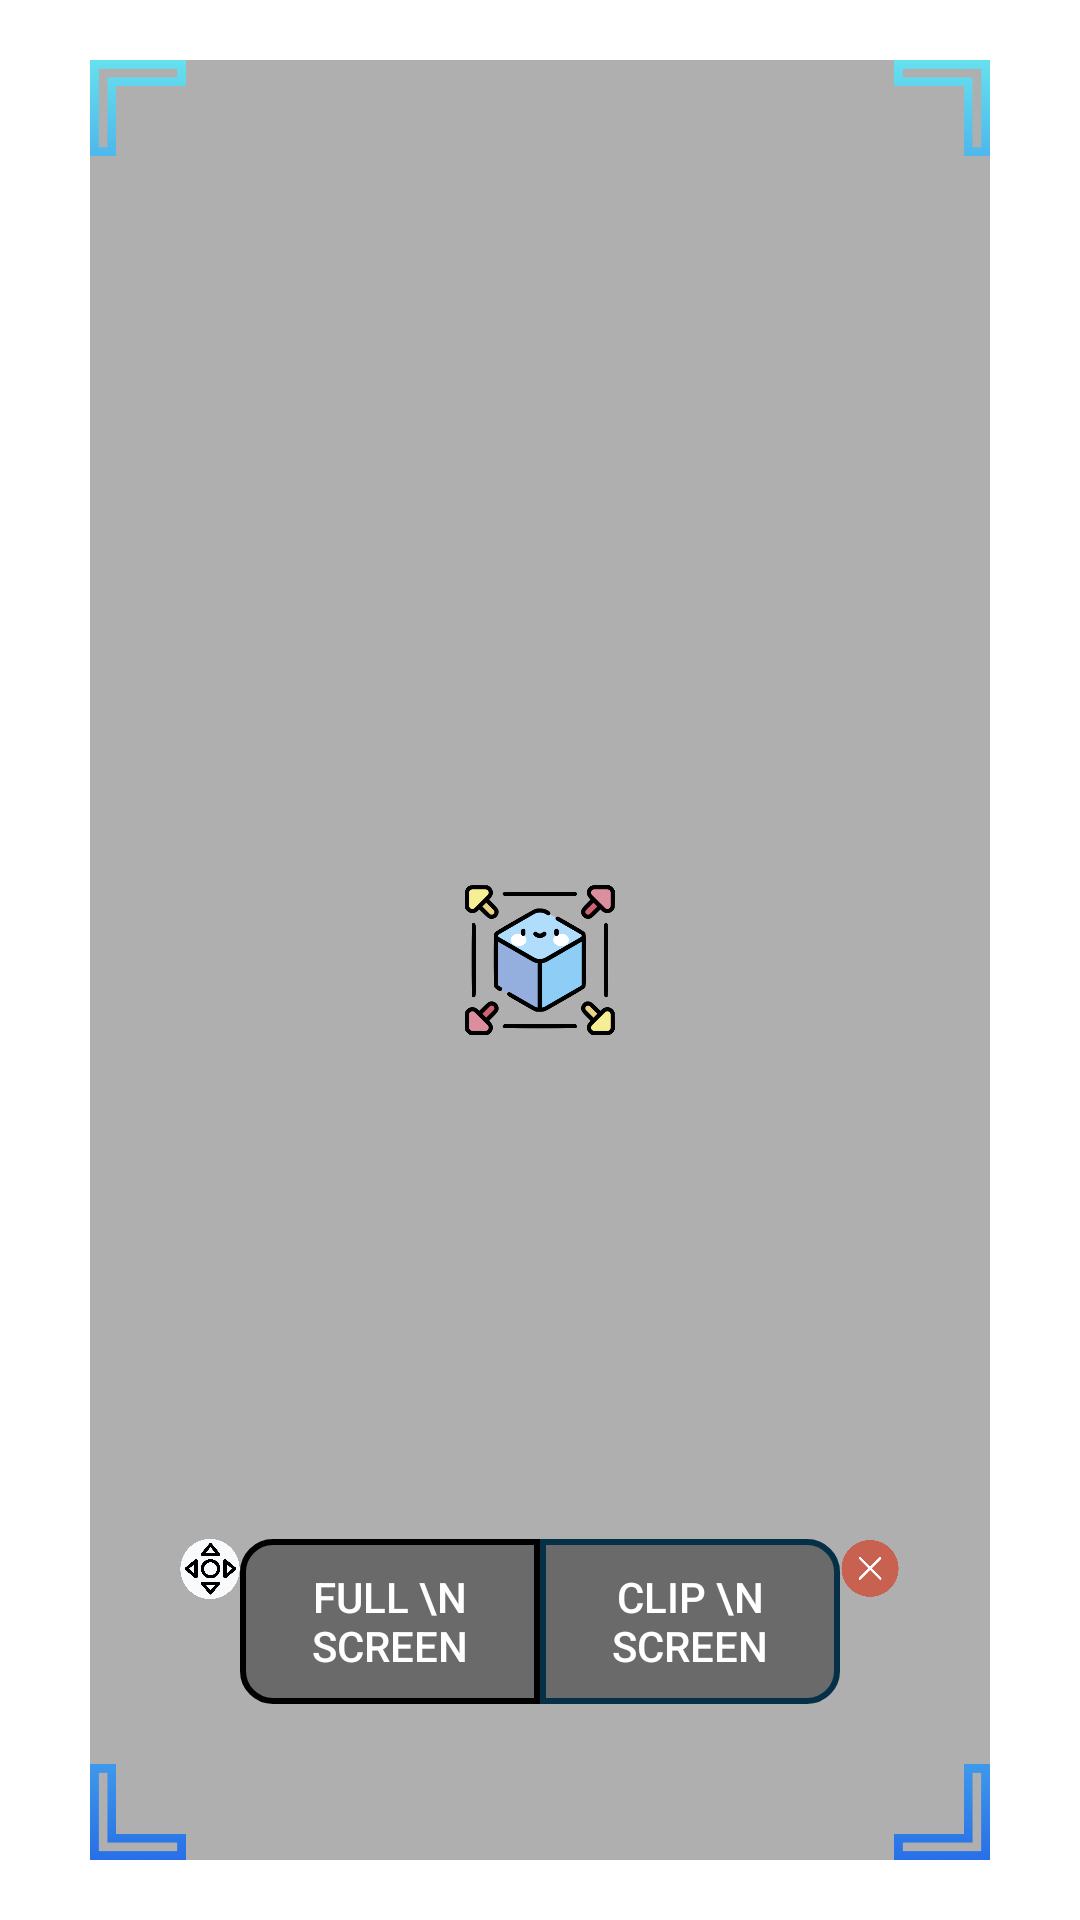

Icon click points for this 1080x1920 phone screenshot, format [x,y]:
centerimage: [540,960]
cross: [870,1568]
move: [210,1569]
